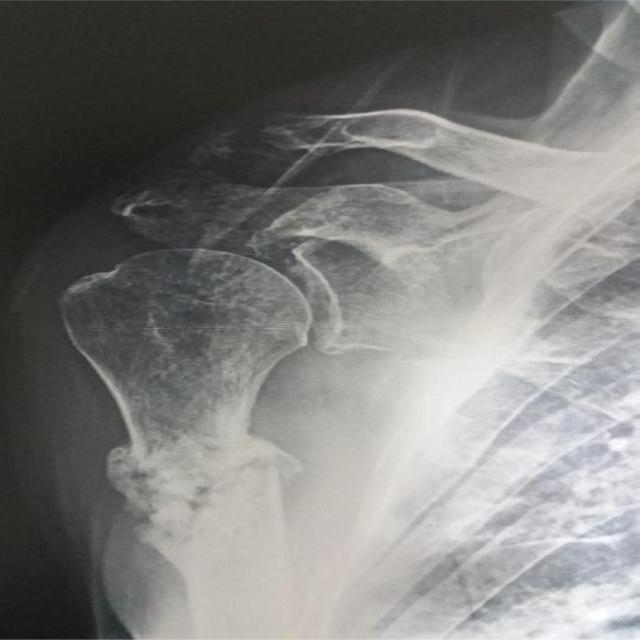Oblique: (86, 413, 316, 585)
